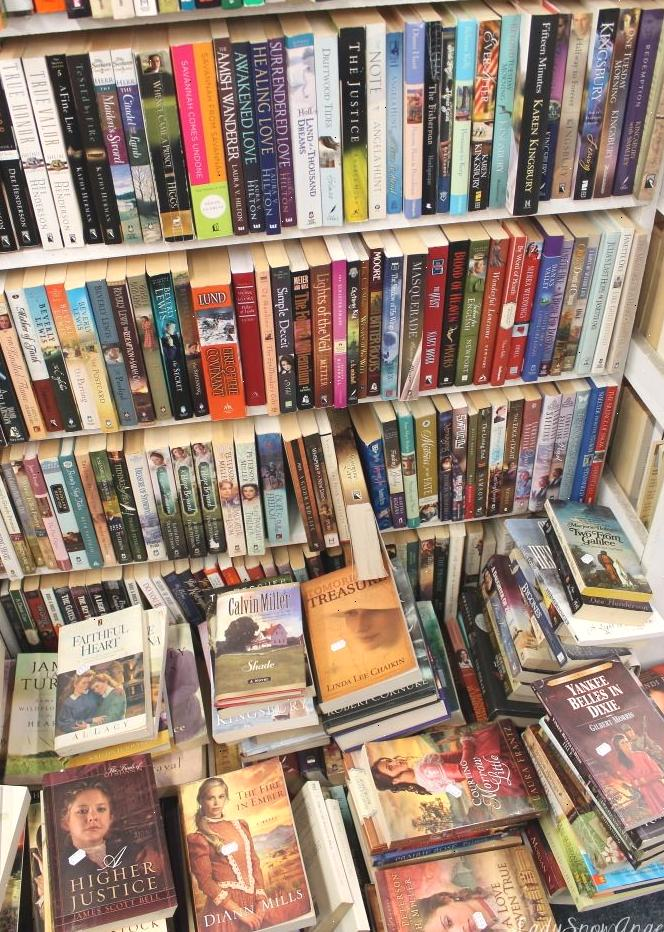book: (0, 40, 60, 250), (137, 38, 194, 243), (169, 22, 224, 233), (47, 49, 104, 242), (610, 6, 664, 200), (187, 248, 246, 417), (91, 38, 139, 244), (510, 10, 558, 216), (41, 265, 101, 427), (573, 8, 621, 200), (547, 1, 591, 203), (85, 263, 139, 425), (209, 22, 250, 234), (283, 14, 323, 228), (589, 208, 639, 372), (517, 220, 567, 382), (552, 217, 602, 377), (246, 22, 283, 233), (145, 261, 194, 418), (488, 4, 522, 212), (472, 219, 514, 385), (312, 15, 343, 225), (391, 229, 428, 397), (449, 6, 478, 214), (338, 23, 368, 221), (418, 223, 452, 390), (363, 10, 389, 220), (297, 413, 338, 546), (401, 7, 427, 216), (265, 242, 298, 406), (347, 403, 390, 528), (375, 230, 405, 395), (249, 241, 278, 405), (383, 11, 405, 217), (306, 242, 333, 407), (340, 239, 366, 403), (0, 278, 26, 439), (584, 383, 620, 498), (421, 15, 441, 212), (231, 420, 262, 547), (364, 235, 386, 399), (327, 240, 349, 403), (410, 398, 439, 518), (0, 49, 14, 257)
